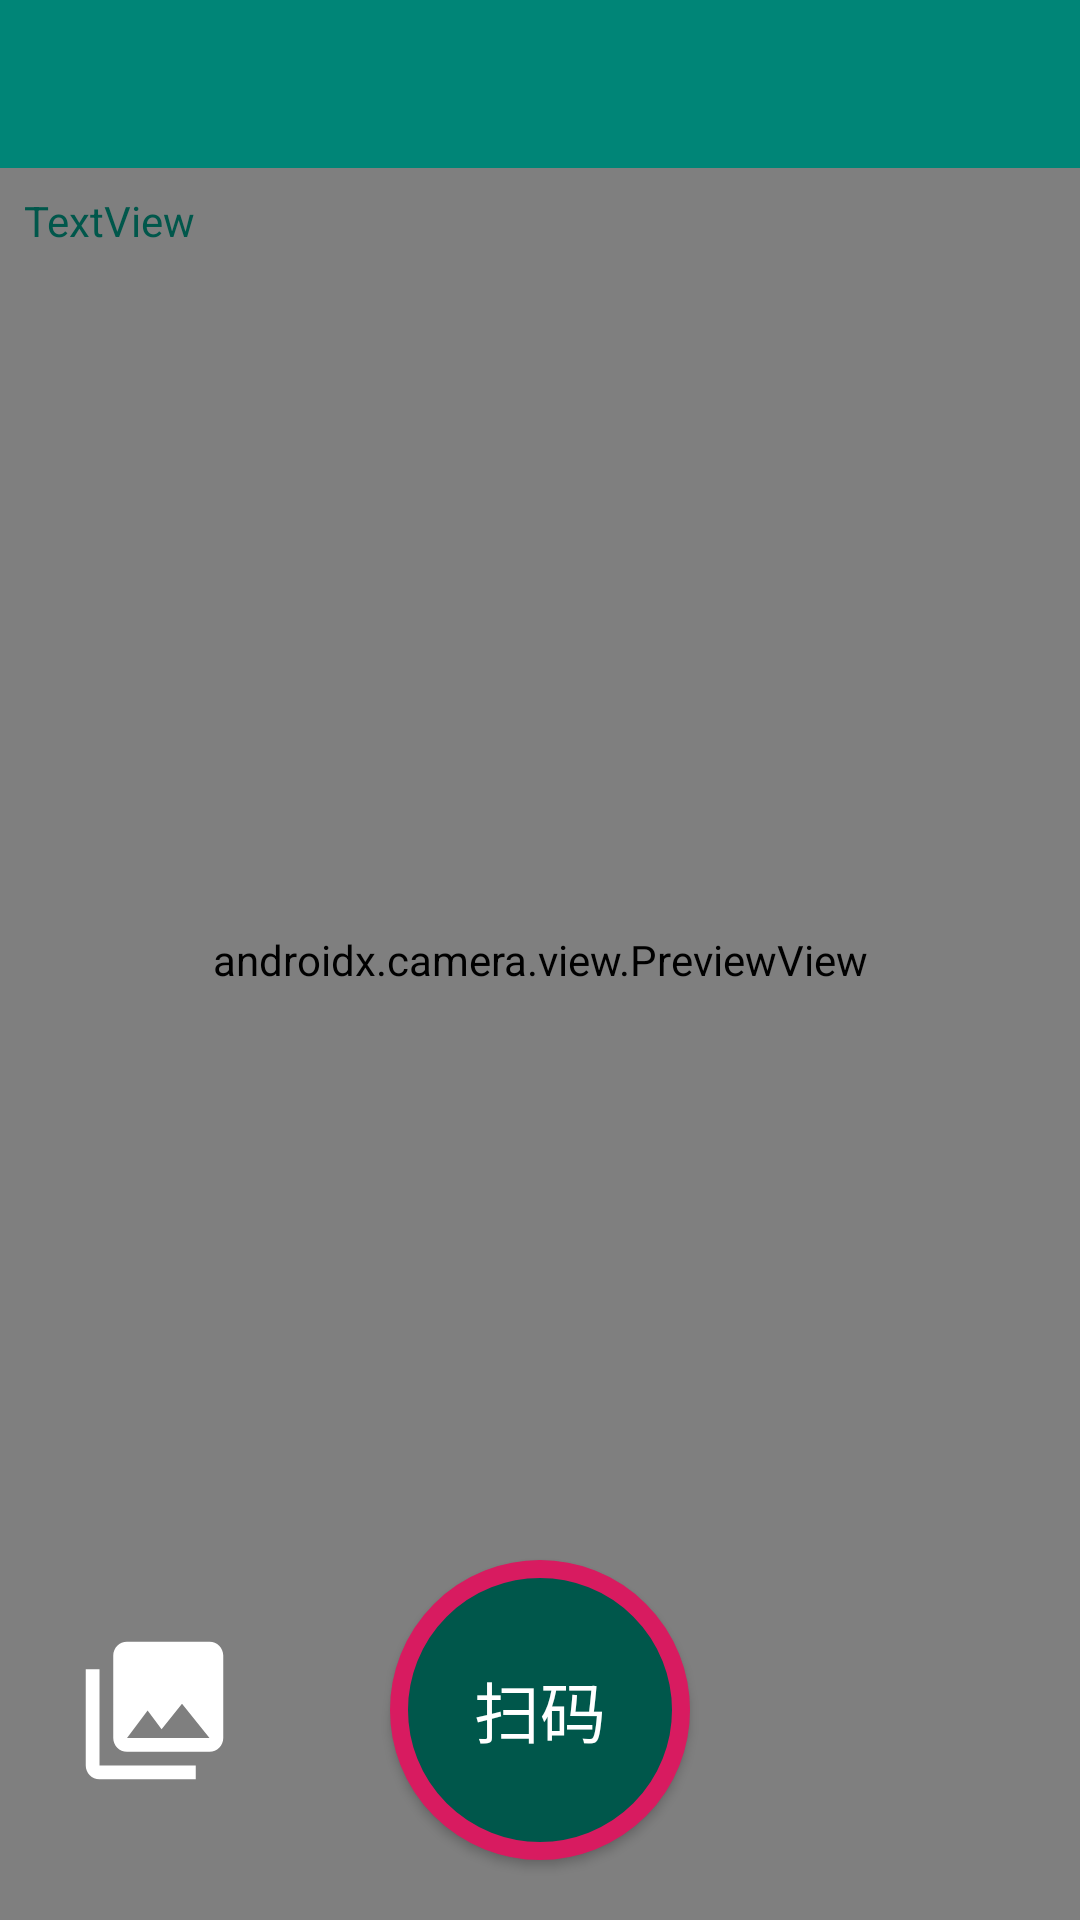

Icon bounding boxes for this 1080*1920 phone screenshot, format (x1,y1,x2,y2):
photo library: (85,1641,224,1780)
